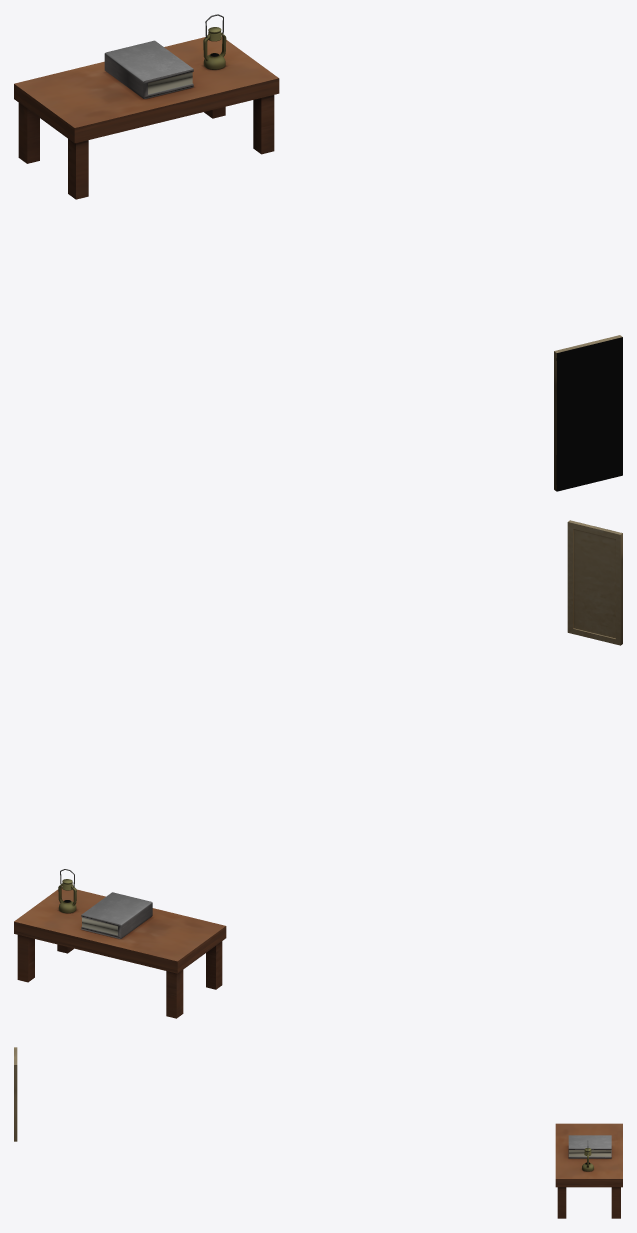
The model's file is stolzksiazka.gltf.
3 renders of one model, top to bottom at view 1: azimuth 30°, elevation 25°; view 2: azimuth 150°, elevation 25°; view 3: azimuth 270°, elevation 25°, orthographic. The views are drawn at different scales.
Visible parts, largest first — view 1: Cube, Cube.006, Cube.003, Cylinder.002; view 2: Cube, Cube.006, Cube.003; view 3: Cube, Cube.003, Cube.006.
Boxes of the visible parts, x1,y1,x2,y2 form: Cube: (14, 36, 279, 199); Cube.006: (554, 335, 622, 491); Cube.003: (104, 40, 193, 98); Cylinder.002: (203, 14, 226, 69); Cube: (14, 886, 226, 1018); Cube.006: (567, 520, 622, 645); Cube.003: (81, 892, 152, 938); Cube: (555, 1123, 622, 1218); Cube.003: (568, 1135, 611, 1158); Cube.006: (14, 1047, 17, 1141).
Size of the model in its own units: 3.19 by 3 by 14.39.
7 materials, 7 textured.
